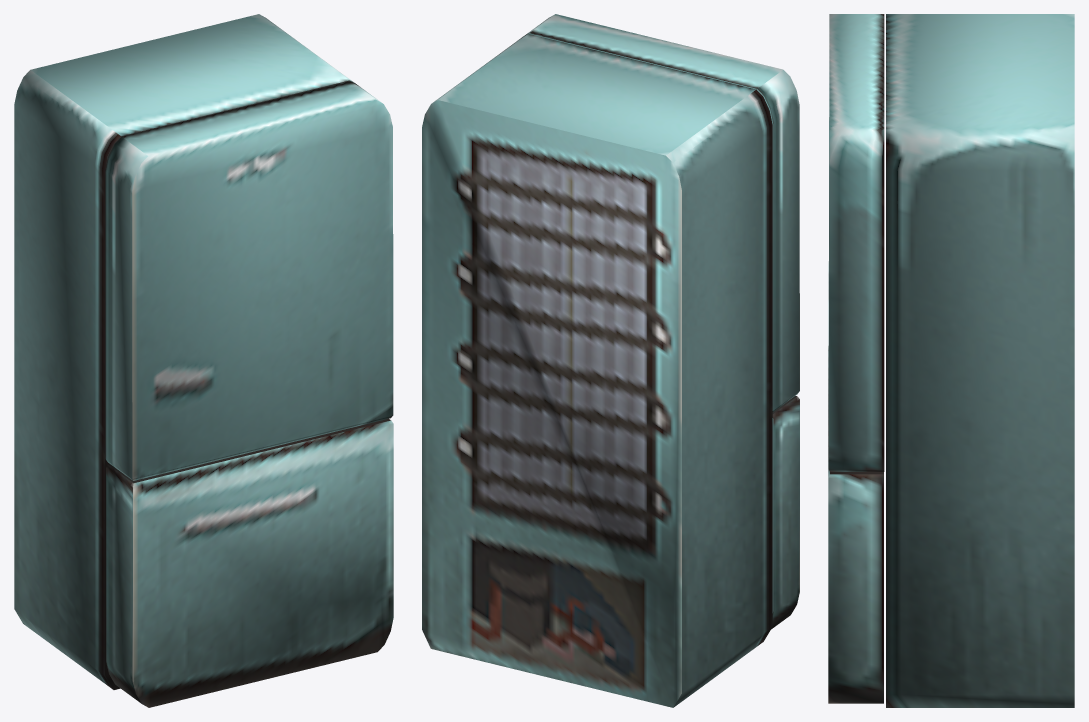
The model's file is W_Fridge2.fbx.
The picture shows the model from 3 angles, left to right: view 1: azimuth 30°, elevation 25°; view 2: azimuth 150°, elevation 25°; view 3: azimuth 270°, elevation 25°; orthographic projection. The views are drawn at different scales.
Parts seen in each view (by area): view 1: W_Fridge2t; view 2: W_Fridge2t; view 3: W_Fridge2t.
Part boxes in pixels (x1,y1,x2,y2): W_Fridge2t: (14,14,393,707); W_Fridge2t: (422,14,799,707); W_Fridge2t: (828,14,1074,707).
Bounding box in the file's own units: 0.5261 × 1.06 × 0.4136.
